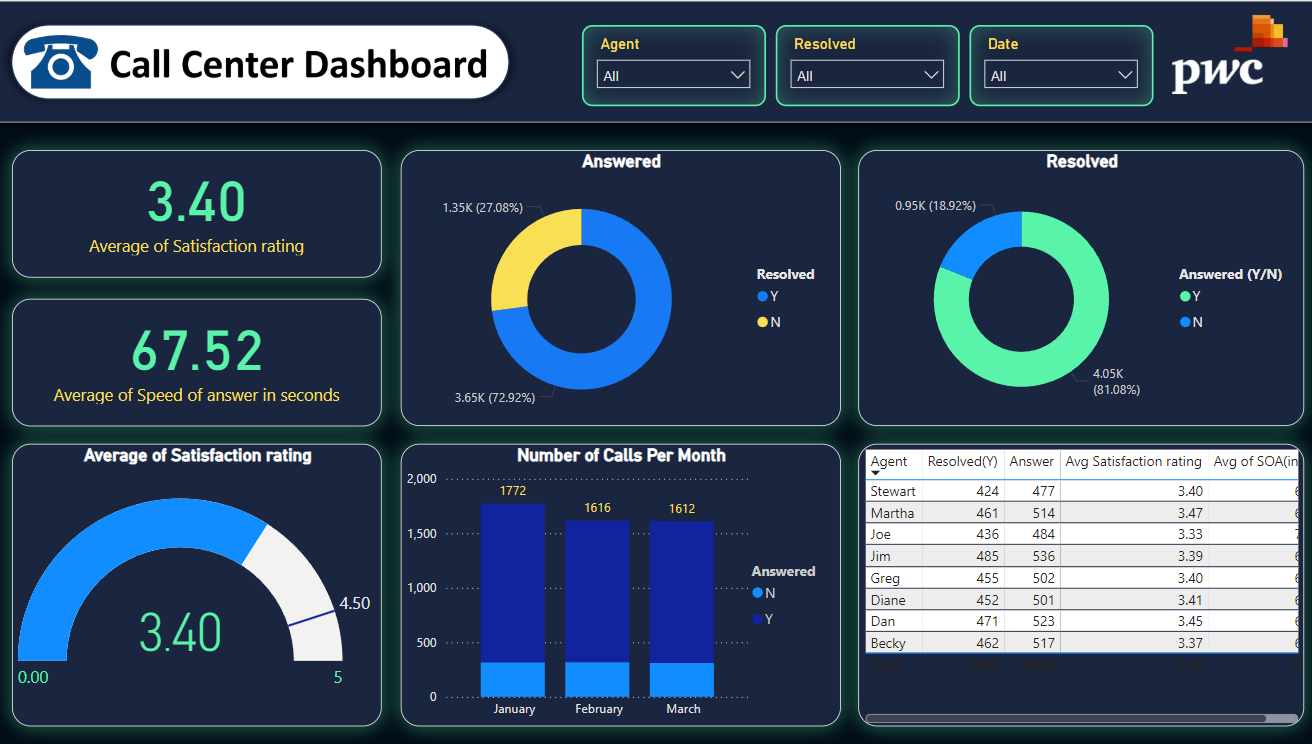

The page's visual inventory and layout, read from the dashboard file:
{"tool":"powerbi","page":{"name":"Page 1","canvas":[1280,720],"ordinal":0},"visuals":[{"type":"slicer","fields":{"Values":["Sheet1.Agent"]},"box":[569.4,24.1,177.3,78.4],"z":0},{"type":"slicer","fields":{"Values":["Sheet1.Resolved"]},"box":[756.4,24.1,177.3,78.4],"z":1000},{"type":"slicer","fields":{"Values":["Sheet1.Date"]},"box":[943.4,24.1,177.3,78.4],"z":2000},{"type":"gauge","title":"Average of Satisfaction rating","fields":{"Y":["Sheet1.Satisfaction rating"],"MaxValue":["Sheet1.Satisfaction rating"]},"box":[19.3,428.3,357.1,272.7],"z":3000},{"type":"donutChart","title":"Resolved","fields":{"Category":["Sheet1.Answered (Y/N)"],"Y":["Sheet1.Answered (Y/N)"]},"box":[836.1,144.8,430.7,266.6],"z":4000},{"type":"donutChart","title":"Answered","fields":{"Category":["Sheet1.Resolved"],"Y":["Sheet1.Resolved"]},"box":[394.5,144.8,424.7,266.6],"z":5000},{"type":"card","fields":{"Values":["Sheet1.Speed of answer in seconds"]},"box":[19.3,288.3,357.1,123.1],"z":6000},{"type":"columnChart","title":"Number of Calls Per Month","fields":{"Category":["Sheet1.Date.Variation.Date Hierarchy.Month"],"Y":["Sheet1.Answered (Y/N)"],"Series":["Sheet1.Answered (Y/N)"]},"box":[394.5,428.3,424.7,272.7],"z":7000},{"type":"tableEx","title":"Agent Statistics","fields":{"Values":["Sheet1.Agent","Sheet1.Resolved(Y)","Sheet1.Answer","Sheet1.Satisfaction rating","Sheet1.Speed of answer in seconds"]},"box":[836.1,428.3,430.7,272.7],"z":8000},{"type":"card","fields":{"Values":["Sheet1.Satisfaction rating"]},"box":[19.3,144.8,357.1,123.1],"z":9000}]}

Visuals, with their boxes in screenshot pixels (x1, y1, x2, y2), scaled from the page's 1280x720 canvas onto the 1312x744 screenshot:
slicer - Sheet1.Agent: left=584, top=25, right=765, bottom=106
slicer - Sheet1.Resolved: left=775, top=25, right=957, bottom=106
slicer - Sheet1.Date: left=967, top=25, right=1149, bottom=106
"Average of Satisfaction rating" gauge: left=20, top=443, right=386, bottom=724
"Resolved" donutChart: left=857, top=150, right=1298, bottom=425
"Answered" donutChart: left=404, top=150, right=840, bottom=425
card - Sheet1.Speed of answer in seconds: left=20, top=298, right=386, bottom=425
"Number of Calls Per Month" columnChart: left=404, top=443, right=840, bottom=724
"Agent Statistics" tableEx: left=857, top=443, right=1298, bottom=724
card - Sheet1.Satisfaction rating: left=20, top=150, right=386, bottom=277
